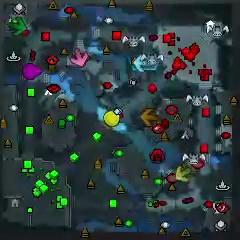p3: (22, 62, 42, 81)
p4: (105, 109, 120, 127)
x1: (71, 48, 88, 68)
x2: (175, 165, 191, 183)
x3: (134, 53, 151, 73)
x4: (9, 16, 27, 36)
x5: (140, 108, 159, 126)
